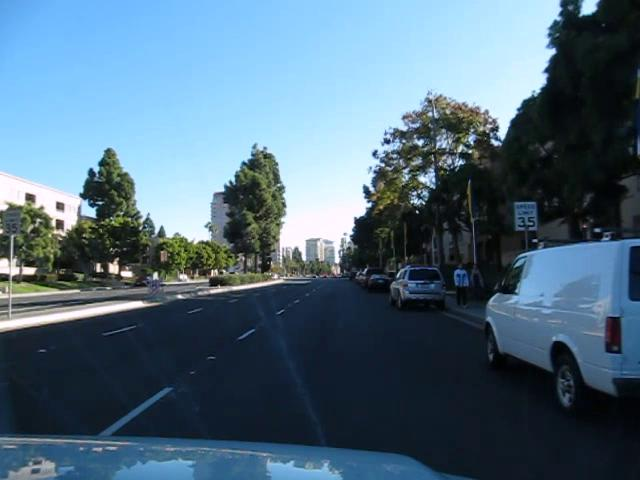speedLimit35: (513, 200, 537, 231)
